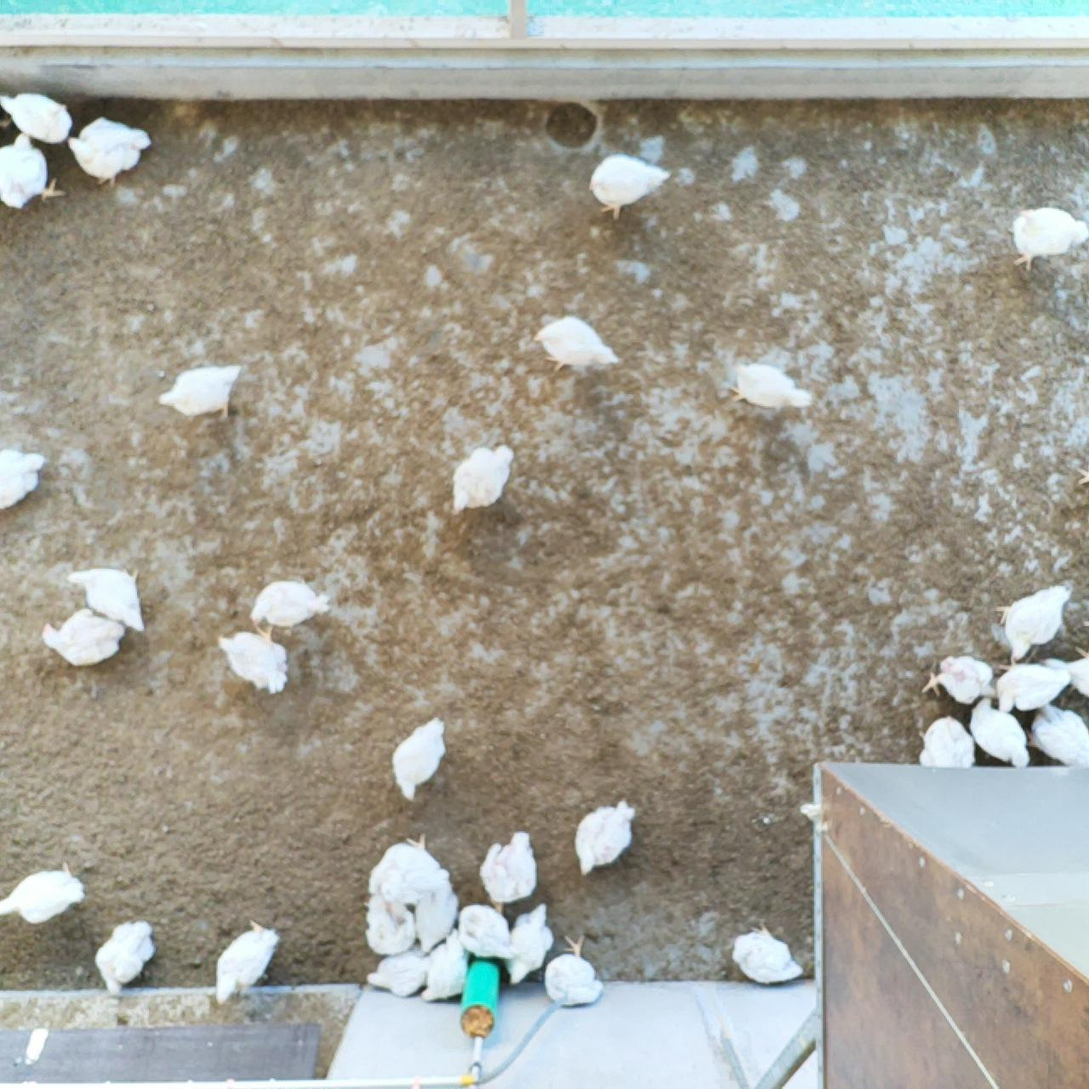chicken: (359, 828, 453, 903), (66, 116, 155, 191), (993, 583, 1076, 663), (585, 148, 673, 222), (64, 564, 152, 636), (210, 917, 278, 1010), (529, 312, 621, 379), (213, 623, 294, 698), (155, 360, 249, 424), (0, 858, 87, 926), (40, 603, 129, 669), (445, 441, 519, 519), (389, 714, 452, 805), (727, 915, 806, 987), (89, 916, 159, 997), (1008, 203, 1089, 271), (0, 130, 66, 213), (575, 798, 640, 882), (964, 691, 1033, 769), (538, 932, 606, 1009), (476, 827, 540, 908), (721, 358, 814, 412), (249, 575, 334, 631), (507, 902, 561, 988), (0, 87, 75, 146), (1025, 699, 1089, 767), (993, 659, 1075, 712), (419, 927, 474, 1006), (918, 653, 999, 705), (411, 882, 466, 957), (456, 896, 516, 962), (361, 888, 419, 956), (364, 944, 430, 1001), (915, 713, 976, 771), (0, 442, 47, 515), (1065, 642, 1089, 699)
